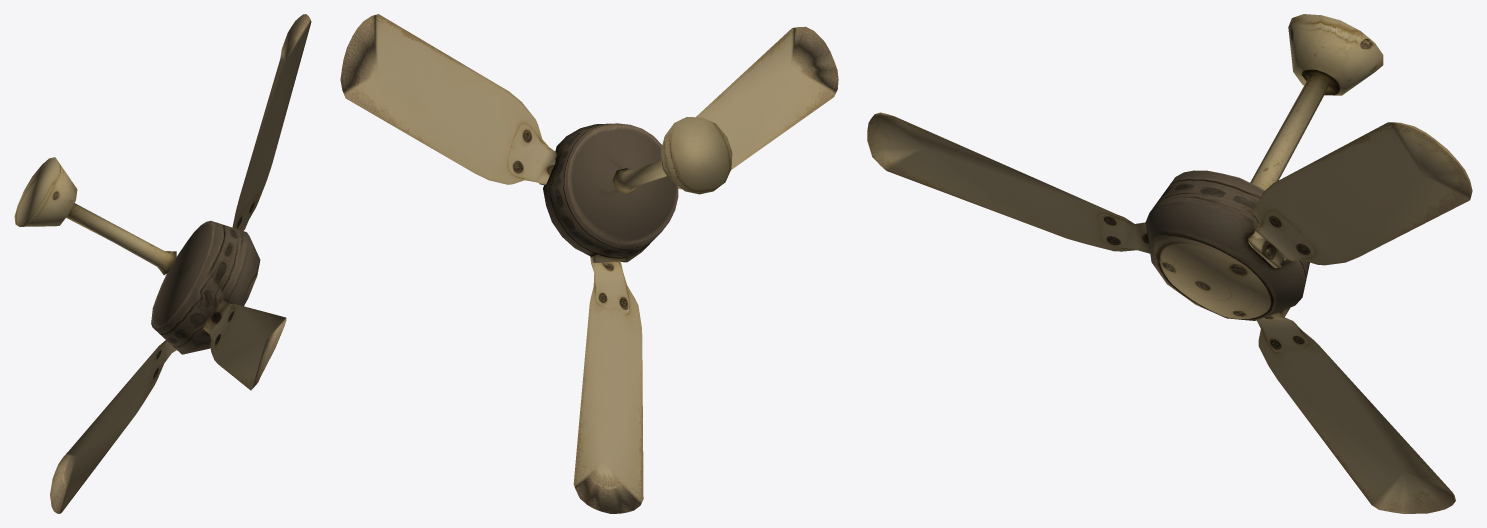
The model's file is ceiling-fan.glb.
The picture shows the model from 3 angles, left to right: view 1: azimuth 30°, elevation 25°; view 2: azimuth 150°, elevation 25°; view 3: azimuth 270°, elevation 25°; orthographic projection. The views are drawn at different scales.
Visible parts, largest first — view 1: tripo_node_7819cec6-525c-402b-81c3-c0923964c242; view 2: tripo_node_7819cec6-525c-402b-81c3-c0923964c242; view 3: tripo_node_7819cec6-525c-402b-81c3-c0923964c242.
Boxes of the visible parts, box(x1,y1,x2,y2) form: tripo_node_7819cec6-525c-402b-81c3-c0923964c242: box(14, 14, 311, 513); tripo_node_7819cec6-525c-402b-81c3-c0923964c242: box(340, 14, 838, 513); tripo_node_7819cec6-525c-402b-81c3-c0923964c242: box(867, 14, 1472, 513).
Bounding box in the file's own units: 0.7949 × 0.998 × 0.9941.
Materials: 1 (1 with a texture image).
